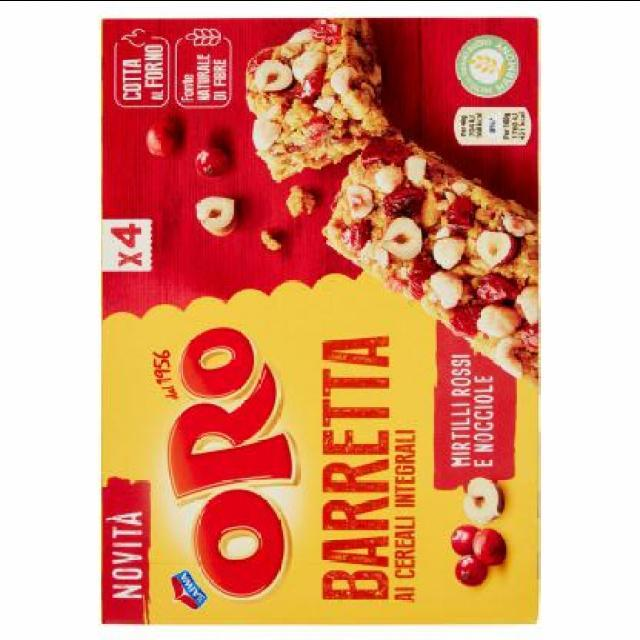Cereal bar: (85, 11, 548, 638)
